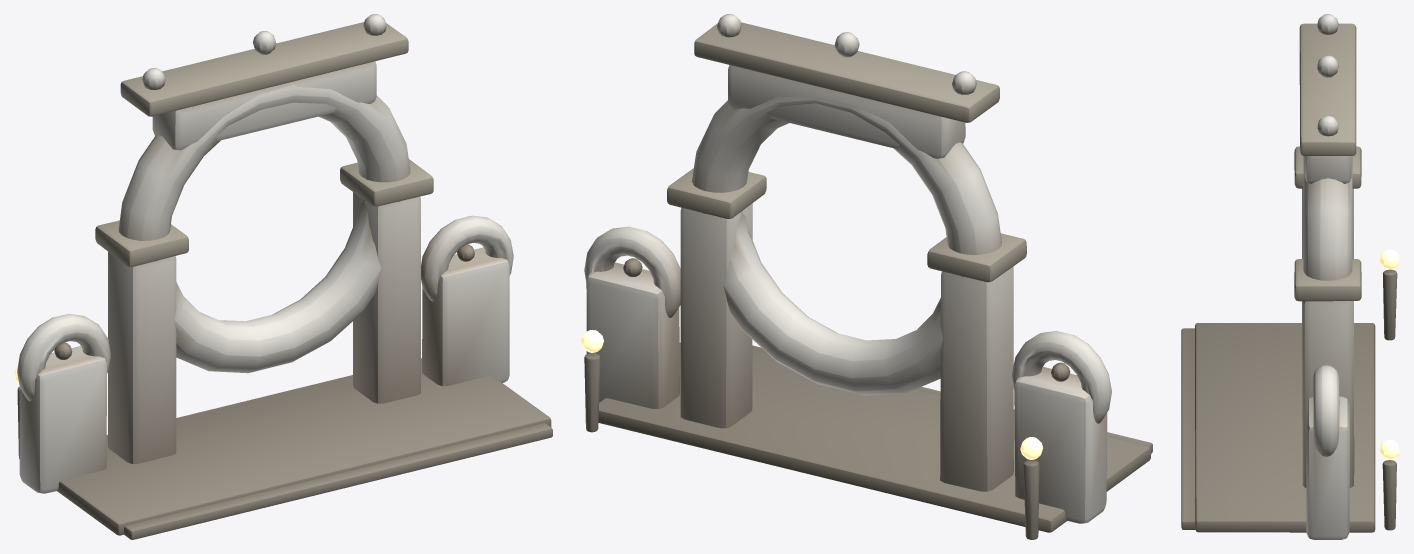
3 views of the same model, side by side, from view 1: azimuth 30°, elevation 25°; view 2: azimuth 150°, elevation 25°; view 3: azimuth 270°, elevation 25° (orthographic). The views are drawn at different scales.
Parts seen in each view (by area): view 1: gate_e702c997; view 2: gate_e702c997; view 3: gate_e702c997.
Boxes of the visible parts, box(x1,y1,x2,y2) form: gate_e702c997: box(14, 14, 552, 539); gate_e702c997: box(581, 14, 1152, 539); gate_e702c997: box(1181, 14, 1399, 539).
Bounding box in the file's own units: 6.25 × 4.86 × 2.54.
